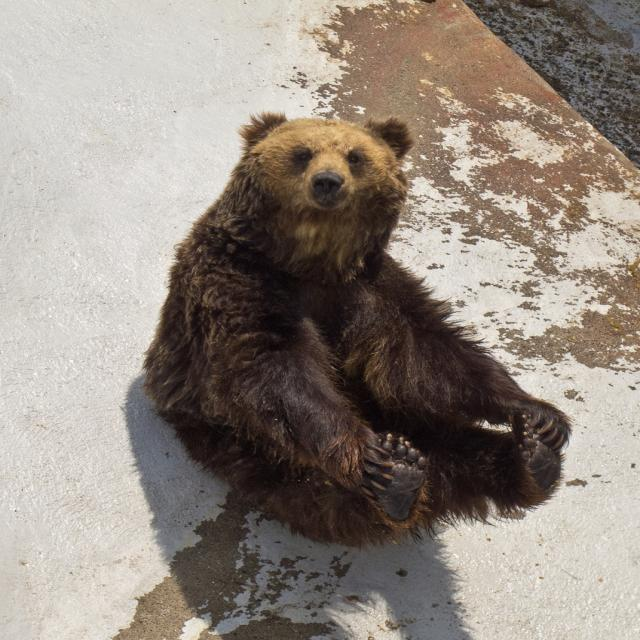Cheetahs: (138, 109, 576, 550)
